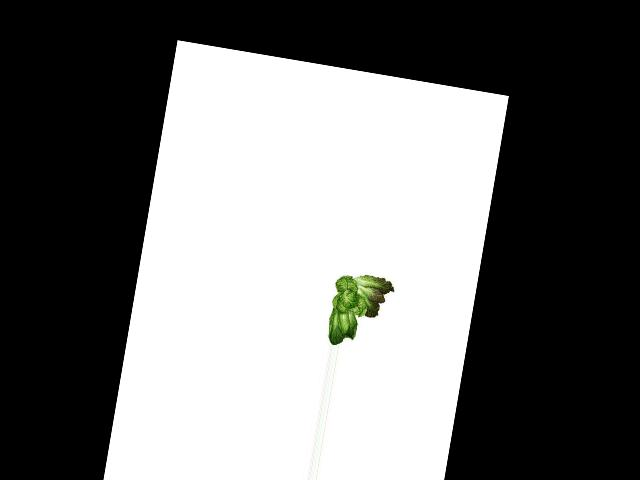lettuce: (321, 268, 399, 354)
